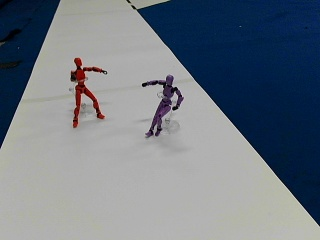pedestrian: (69, 57, 107, 127), (141, 74, 183, 137)
